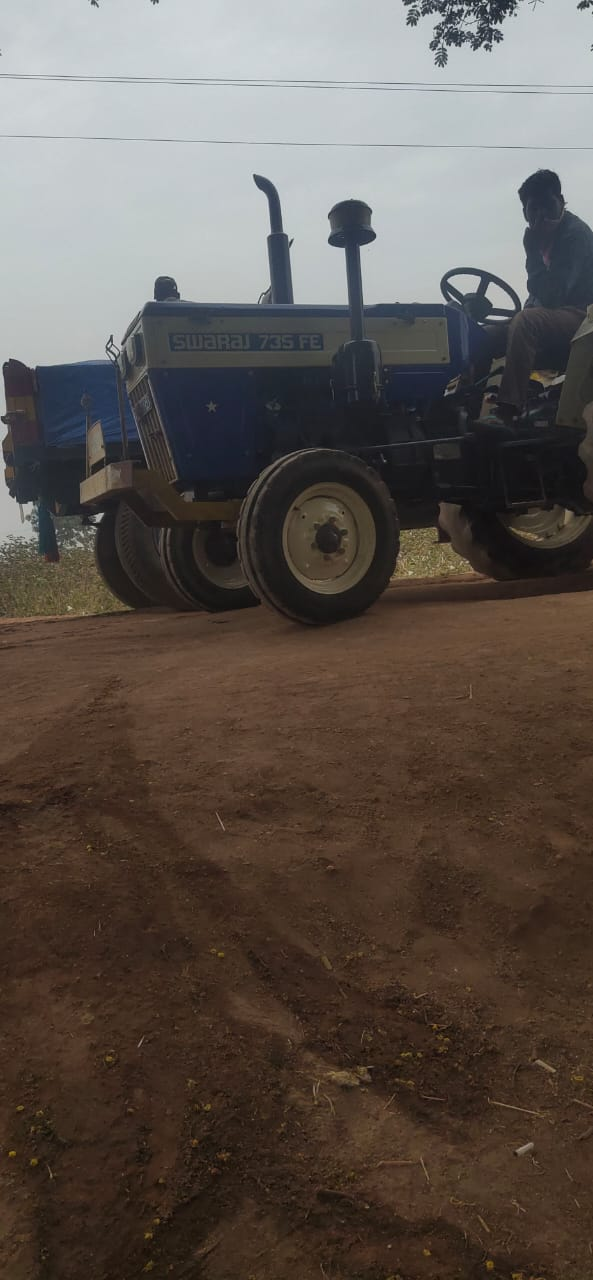num_plate: (63, 465, 128, 509)
